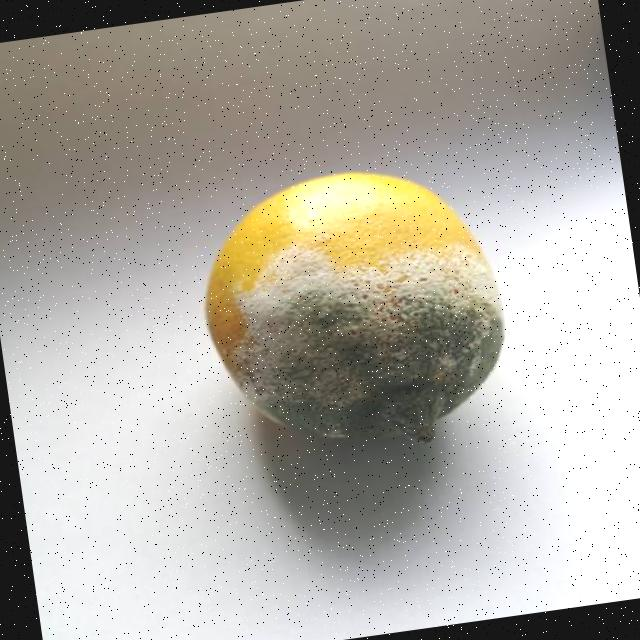Rotten: (184, 148, 522, 474)
